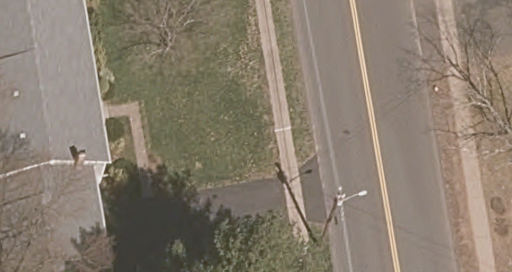DT: (318, 186, 368, 243)
